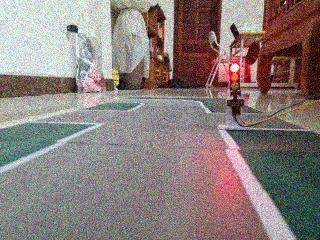red: (223, 56, 245, 94)
